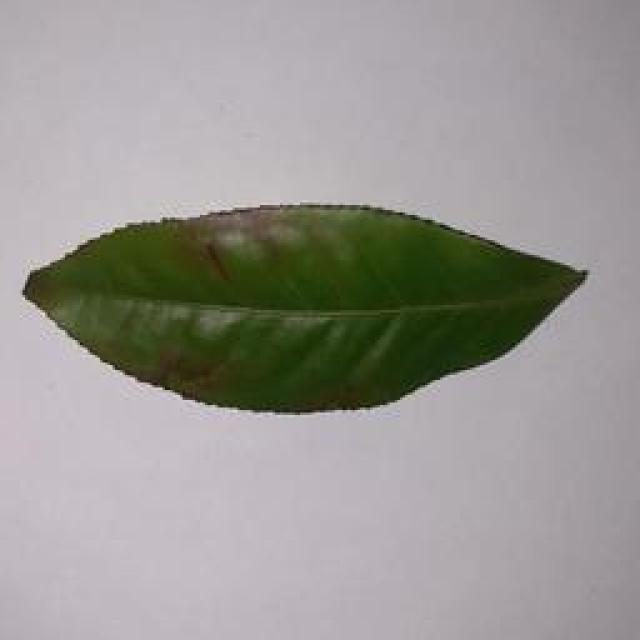Red Leaf Spot: (15, 207, 605, 422)
